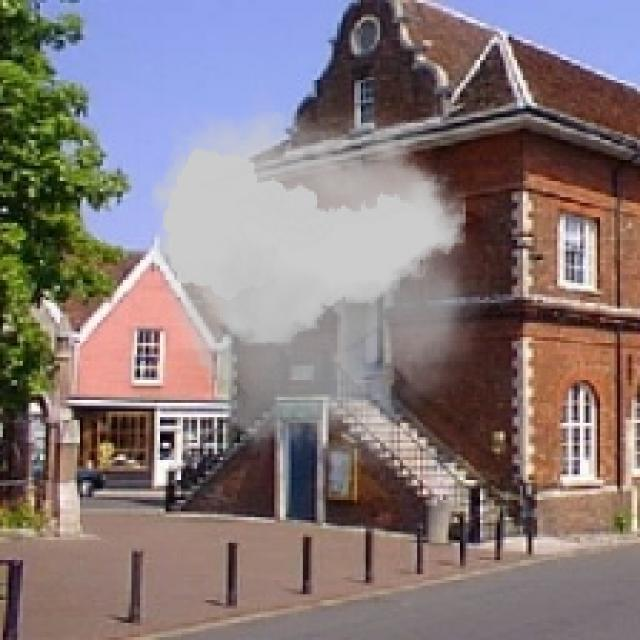Smoke: (140, 80, 489, 492)
